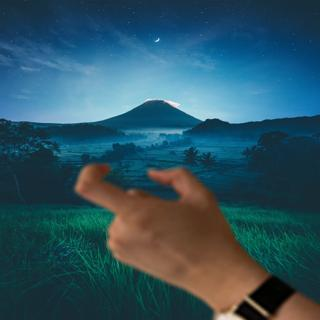HATE: (64, 159, 243, 290)
